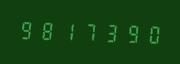eight: (37, 18, 56, 42)
nine: (17, 17, 36, 42), (117, 20, 136, 45)
one: (57, 18, 76, 43)
seven: (77, 19, 96, 44)
three: (97, 20, 116, 44)
zero: (137, 21, 156, 46)
